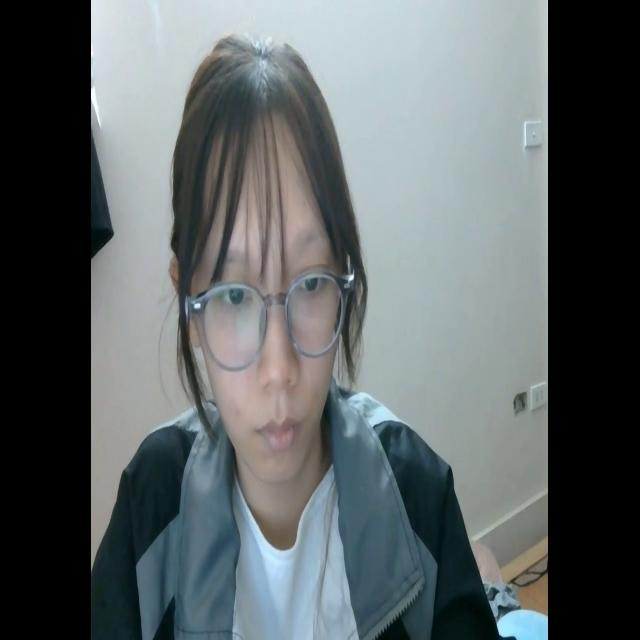student: (96, 28, 500, 640)
